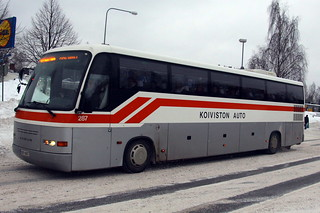bus: (12, 45, 304, 175)
